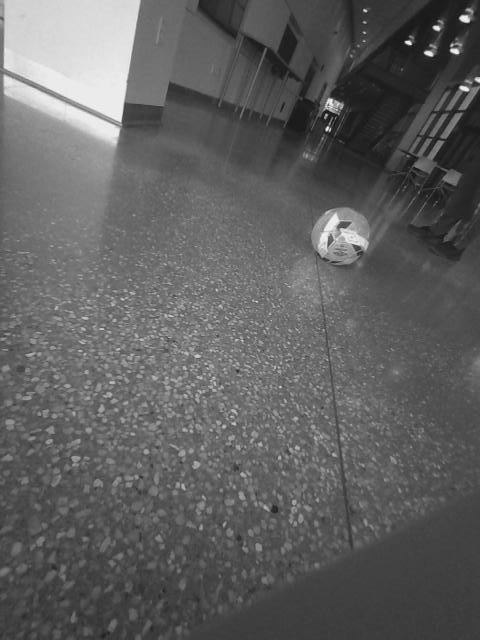ball: (309, 204, 374, 266)
